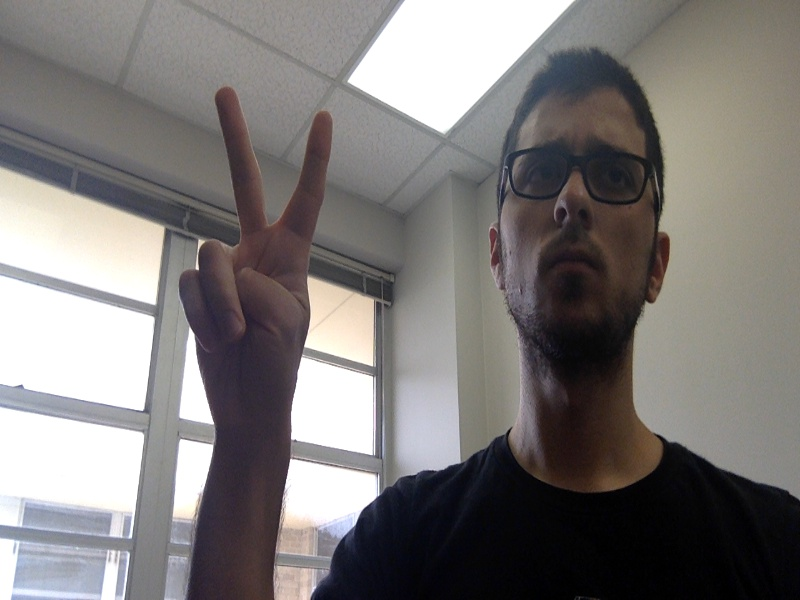2-hand: (178, 85, 331, 408)
